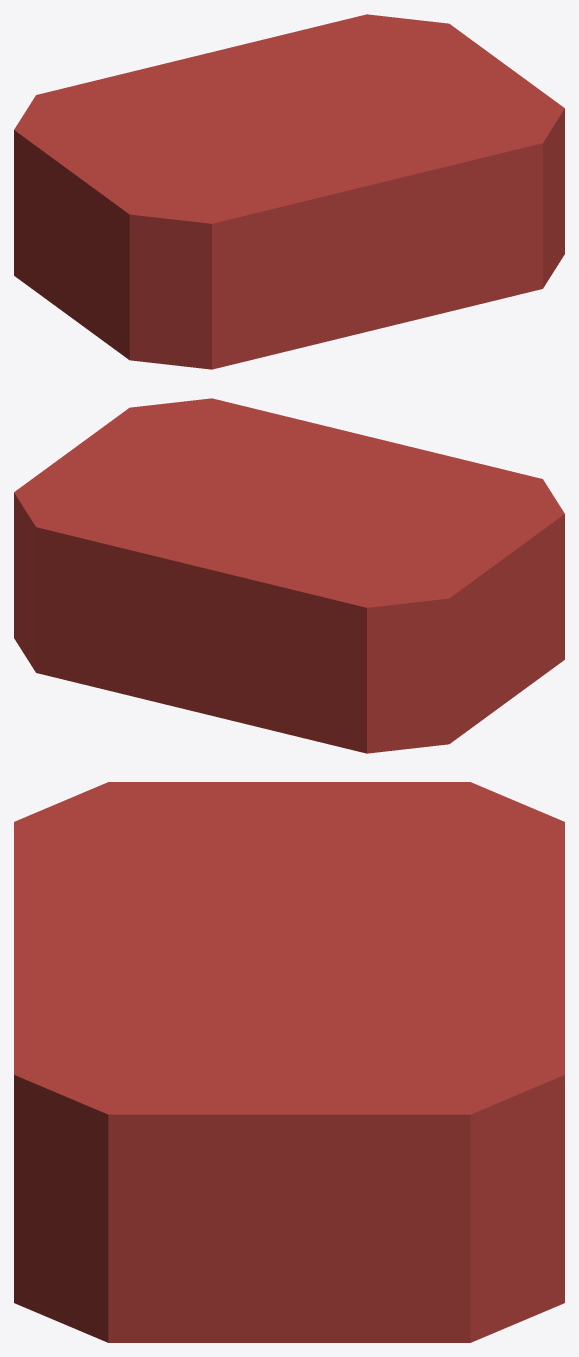
File: semi_metallic_lod2.glb
3 renders of one model, top to bottom at view 1: azimuth 30°, elevation 25°; view 2: azimuth 150°, elevation 25°; view 3: azimuth 270°, elevation 25°, orthographic. The views are drawn at different scales.
Parts seen in each view (by area): view 1: semi_metallic_lod2; view 2: semi_metallic_lod2; view 3: semi_metallic_lod2.
Boxes of the visible parts, x1,y1,x2,y2 form: semi_metallic_lod2: (14,14,564,369); semi_metallic_lod2: (14,398,564,753); semi_metallic_lod2: (14,782,564,1342).
Bounding box in the file's own units: 0.05 × 0.016 × 0.035.
